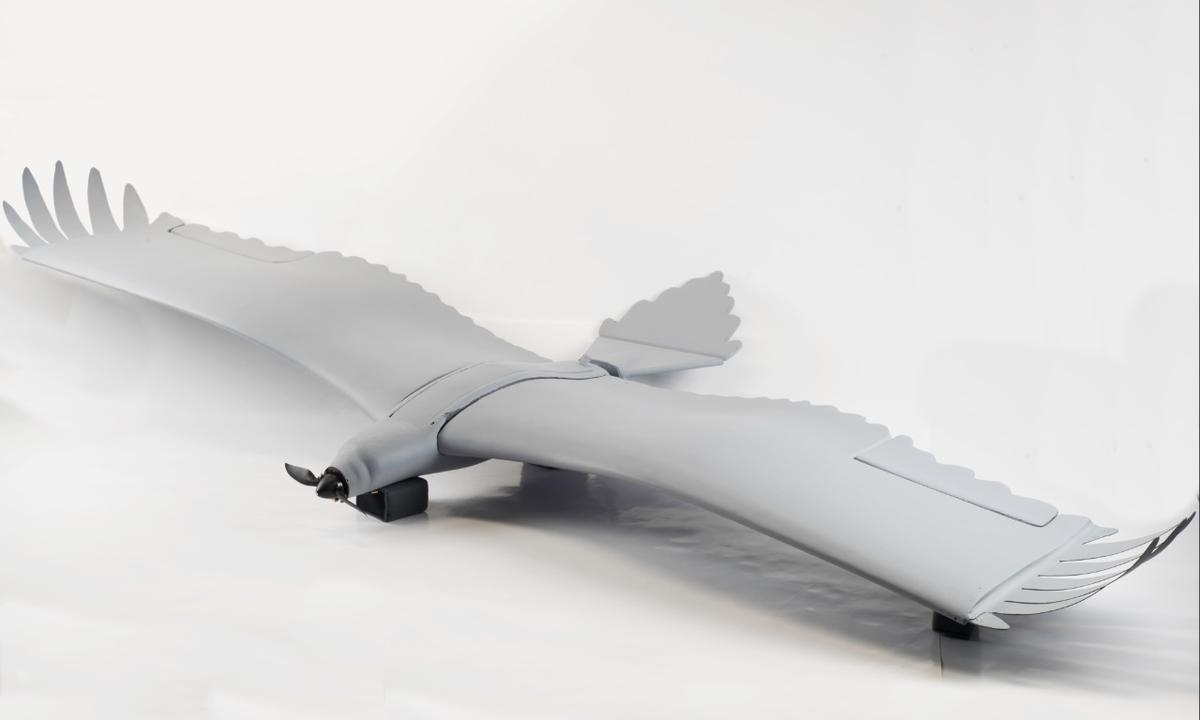drone: (1, 153, 1200, 666)
